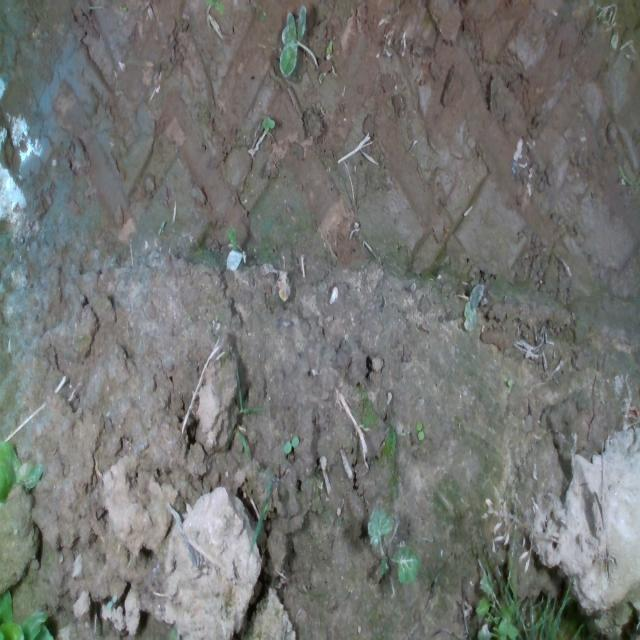weed: (283, 435, 299, 453), (415, 418, 423, 442)
